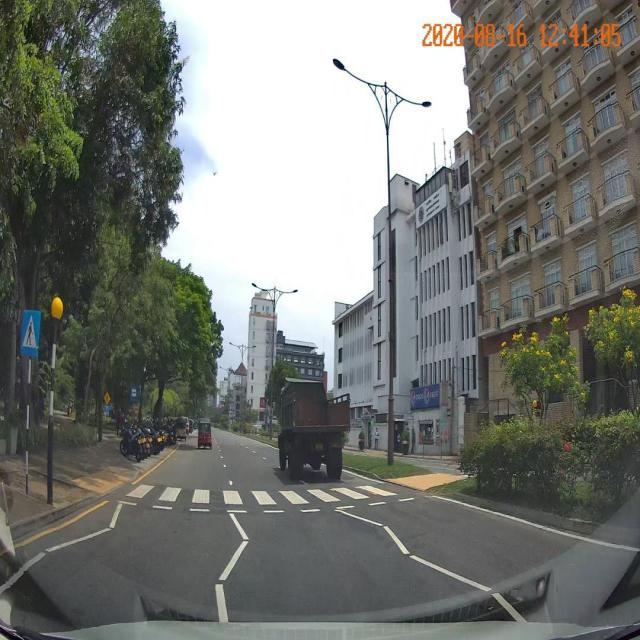Crosswalk: (102, 481, 432, 514)
